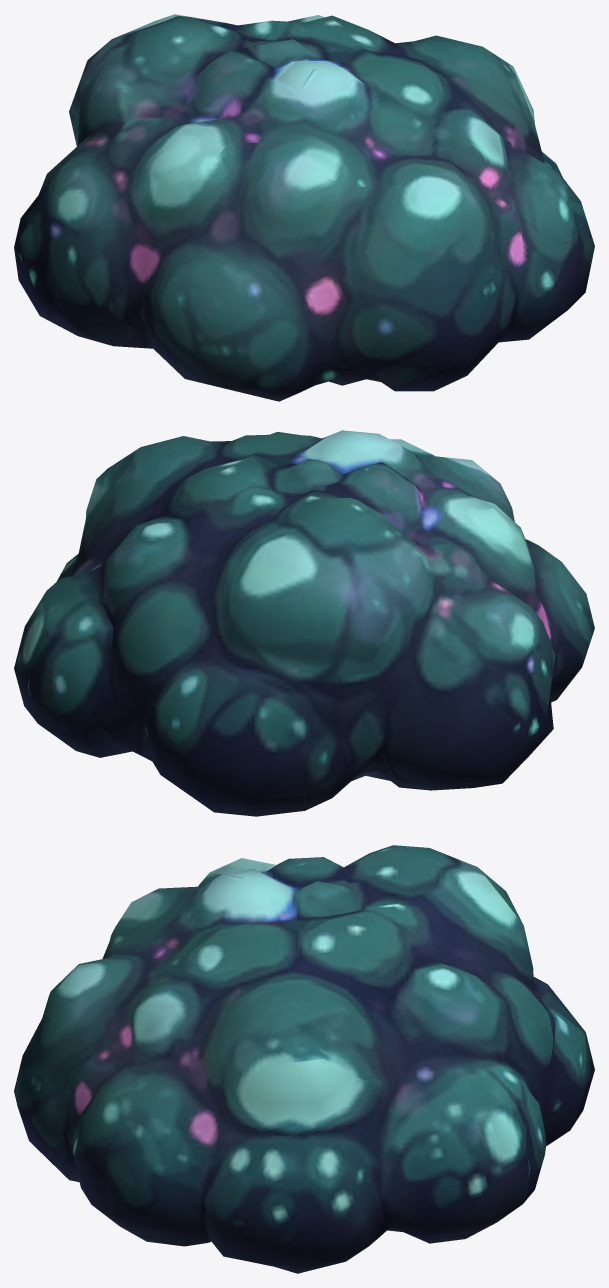
File: trash_spore_clump.fbx
3 views of the same model, one above another, from view 1: azimuth 30°, elevation 25°; view 2: azimuth 150°, elevation 25°; view 3: azimuth 270°, elevation 25° (orthographic). The views are drawn at different scales.
Visible parts, largest first — view 1: trash_spore_clump; view 2: trash_spore_clump; view 3: trash_spore_clump.
Part boxes in pixels (left/top/right/bottom): trash_spore_clump: left=14, top=14, right=594, bottom=401; trash_spore_clump: left=14, top=430, right=594, bottom=816; trash_spore_clump: left=14, top=845, right=594, bottom=1273.
Size of the model in its own units: 0.2 by 0.1106 by 0.1984.
